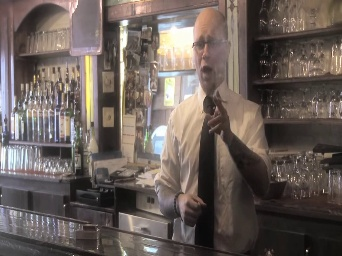smoke: (208, 92, 228, 104)
